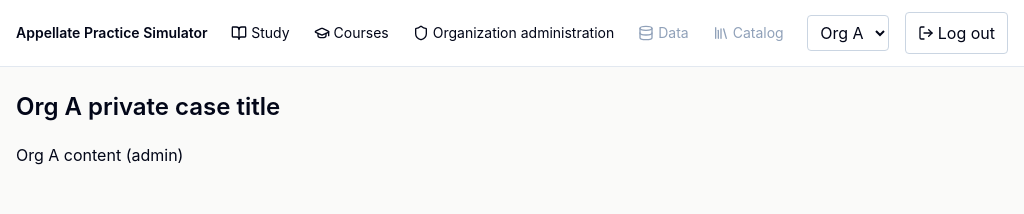
Test case: OrganizationContextProvider › hides the previous organization, cancels local work, and ignores late results after repeated switches
Expected: the text "Org A content (admin)" is shown, [16,145,183,165]
Select "Org B" in the dropdown named "Organization": point(848, 33) [807,15,889,51]
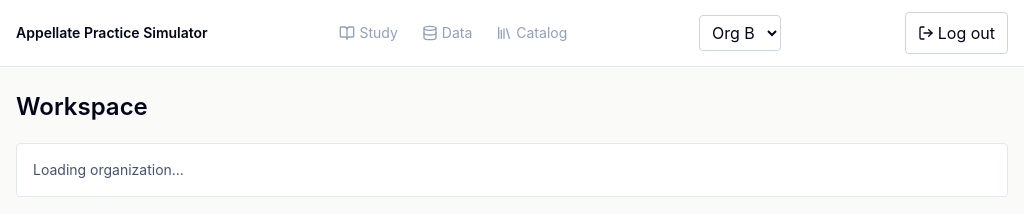
Now the text "Org A content (admin)" is gone
Now the message shows "Loading organization", box [33,161,184,178]
Now the heading "Org A private case title" is gone
Select "Org C" in the dropdown named "Organization": point(740, 33) [699,15,781,51]
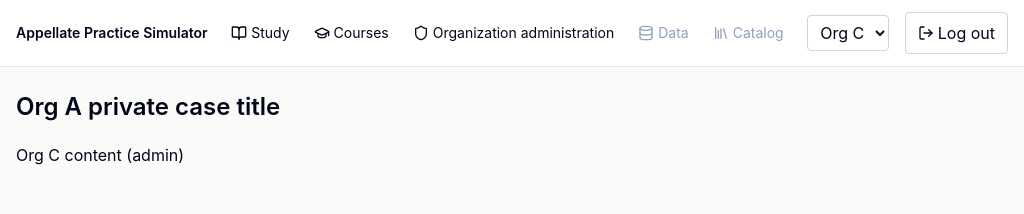
Now the text "Org C content (admin)" is shown, box [16,145,184,165]
